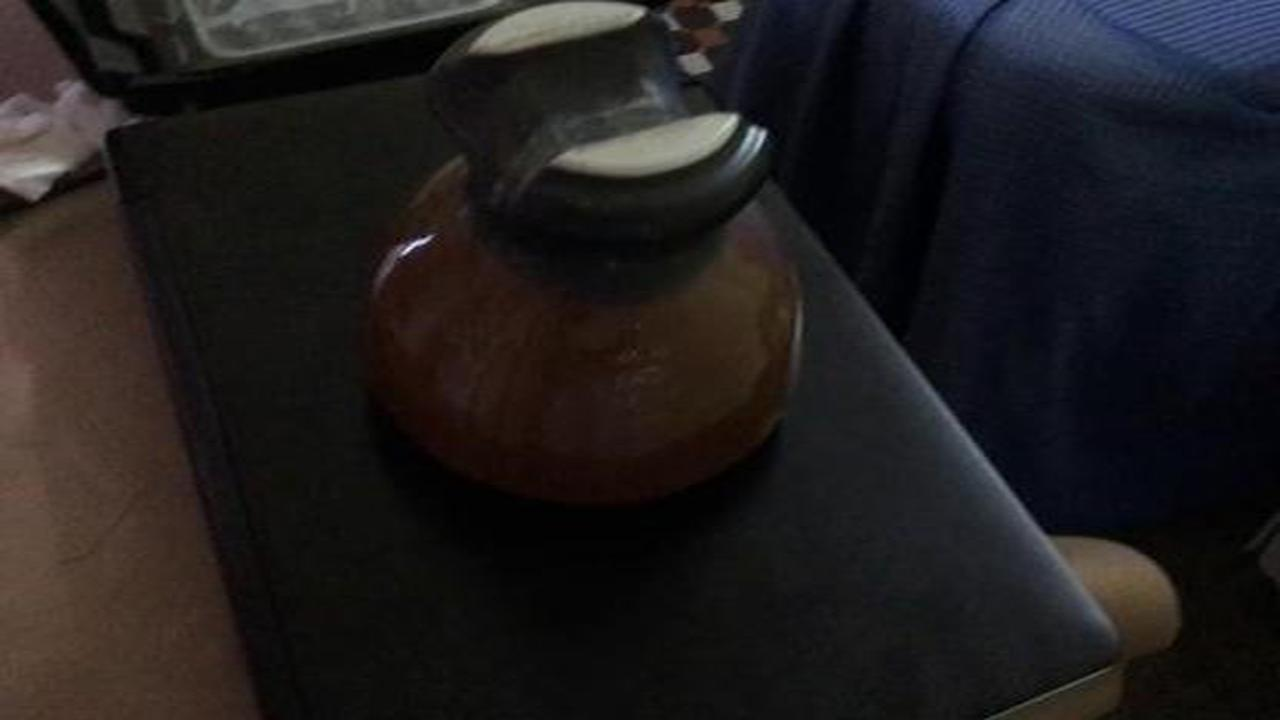insulator_pin: (341, 9, 816, 528)
